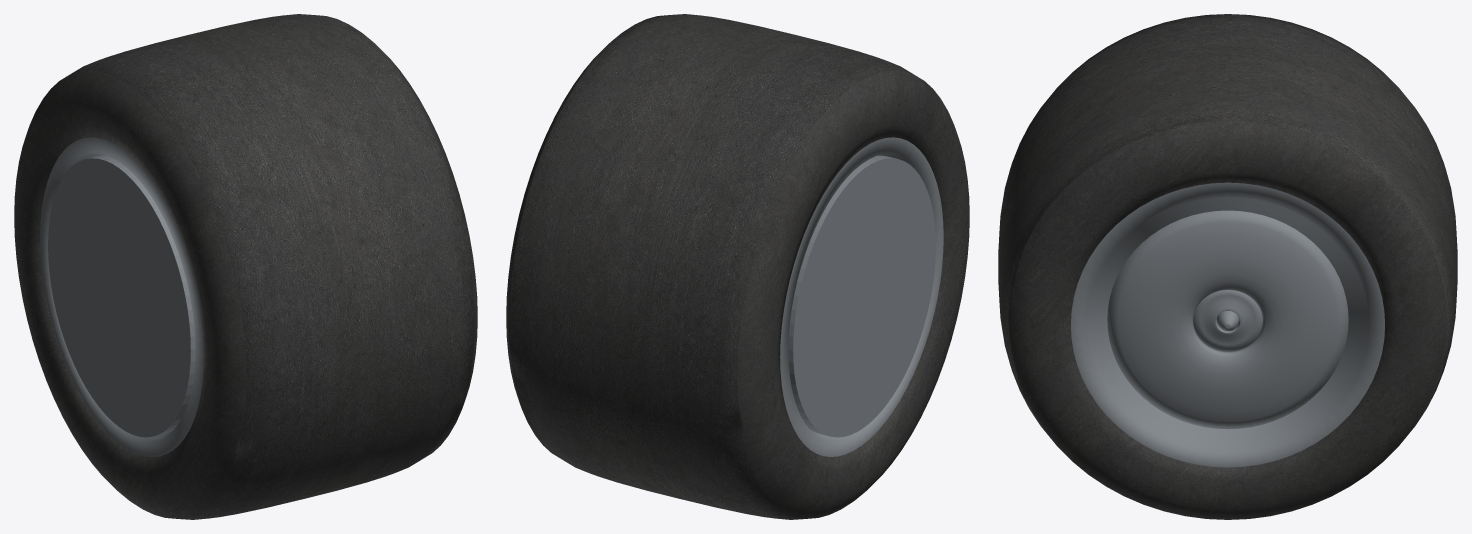
File: f1_2026_2008_wheel_rear.glb
3 views of the same model, side by side, from view 1: azimuth 30°, elevation 25°; view 2: azimuth 150°, elevation 25°; view 3: azimuth 270°, elevation 25° (orthographic). The views are drawn at different scales.
Visible parts, largest first — view 1: GEO_WHEEL_TIRE, GEO_WHEEL_HUB; view 2: GEO_WHEEL_TIRE, GEO_WHEEL_HUB; view 3: GEO_WHEEL_TIRE, GEO_WHEEL_HUB.
Boxes of the visible parts, box(x1,y1,x2,y2) form: GEO_WHEEL_TIRE: box(14, 14, 477, 519); GEO_WHEEL_HUB: box(40, 137, 203, 456); GEO_WHEEL_TIRE: box(506, 14, 969, 519); GEO_WHEEL_HUB: box(780, 137, 943, 456); GEO_WHEEL_TIRE: box(998, 14, 1457, 519); GEO_WHEEL_HUB: box(1071, 182, 1384, 467).
Bounding box in the file's own units: 0.41 × 0.66 × 0.66.
2 materials, 1 textured.
